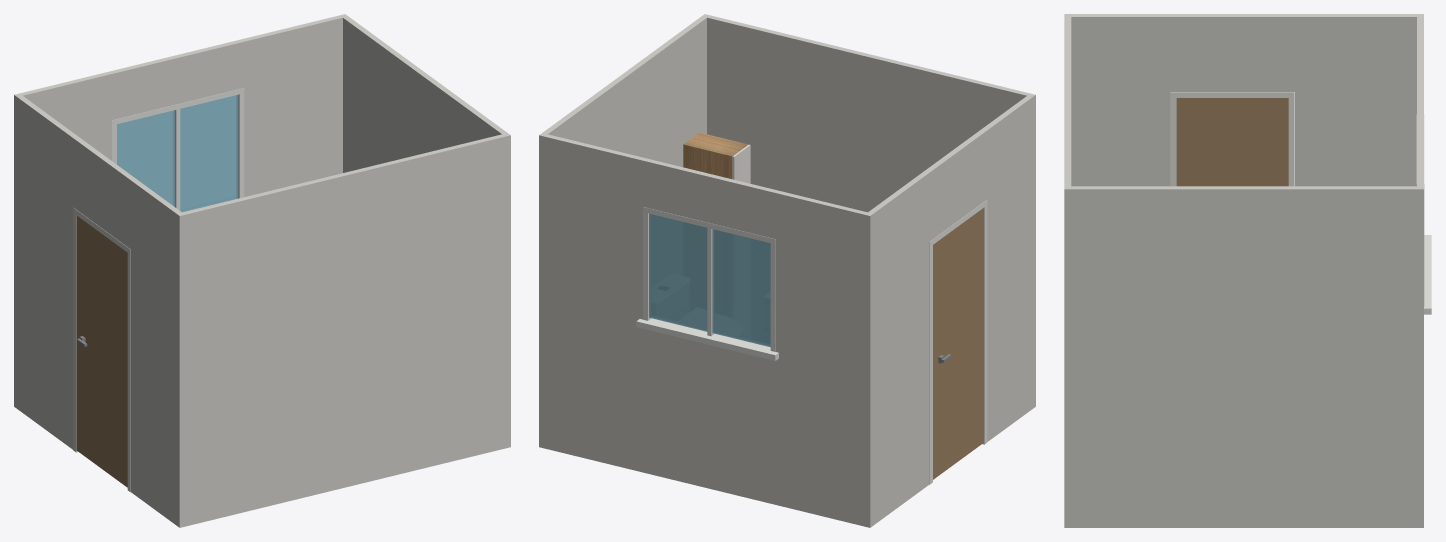
File: scenesmith.glb
3 renders of one model, left to right at view 1: azimuth 30°, elevation 25°; view 2: azimuth 150°, elevation 25°; view 3: azimuth 270°, elevation 25°, orthographic. The views are drawn at different scales.
Visible parts, largest first — view 1: scene_066_bathroom_south_wall, scene_066_bathroom_west_wall, scene_066_bathroom_north_wall, scene_066_bathroom_east_wall, scene_066_bathroom_west_wall Door 0 | wood leaf, scene_066_bathroom_north_wall Window 0 | glazing, scene_066_bathroom_north_wall Window 0 | jamb, scene_066_bathroom_west_wall Door 0 | jamb; view 2: scene_066_bathroom_north_wall, scene_066_bathroom_west_wall, scene_066_bathroom_south_wall, scene_066_bathroom_east_wall, scene_066_bathroom_north_wall Window 0 | glazing, scene_066_bathroom_west_wall Door 0 | wood leaf, scene_066_bathroom_north_wall Window 0 | jamb, scene_066_bathroom_west_wall Door 0 | jamb, P_6567ec5e91fe14f4.001, P_10b816f60418c2ff.001; view 3: scene_066_bathroom_east_wall, scene_066_bathroom_west_wall, scene_066_bathroom_west_wall Door 0 | wood leaf, scene_066_bathroom_south_wall, scene_066_bathroom_west_wall Door 0 | jamb, scene_066_bathroom_north_wall, scene_066_bathroom_north_wall Window 0 | jamb.
Part boxes in pixels (x1,y1,x2,y2): scene_066_bathroom_south_wall: (177, 134, 510, 527); scene_066_bathroom_west_wall: (14, 95, 185, 527); scene_066_bathroom_north_wall: (14, 14, 347, 196); scene_066_bathroom_east_wall: (343, 16, 510, 255); scene_066_bathroom_west_wall Door 0 | wood leaf: (76, 216, 127, 487); scene_066_bathroom_north_wall Window 0 | glazing: (117, 95, 238, 212); scene_066_bathroom_north_wall Window 0 | jamb: (112, 88, 244, 210); scene_066_bathroom_west_wall Door 0 | jamb: (73, 207, 130, 492); scene_066_bathroom_north_wall: (539, 133, 872, 527); scene_066_bathroom_west_wall: (868, 95, 1035, 527); scene_066_bathroom_south_wall: (703, 14, 1035, 212); scene_066_bathroom_east_wall: (542, 14, 709, 167); scene_066_bathroom_north_wall Window 0 | glazing: (649, 213, 770, 347); scene_066_bathroom_west_wall Door 0 | wood leaf: (933, 208, 983, 479); scene_066_bathroom_north_wall Window 0 | jamb: (636, 207, 778, 360); scene_066_bathroom_west_wall Door 0 | jamb: (929, 200, 987, 484); P_6567ec5e91fe14f4.001: (683, 132, 748, 178); P_10b816f60418c2ff.001: (732, 144, 750, 183); scene_066_bathroom_east_wall: (1064, 186, 1423, 527); scene_066_bathroom_west_wall: (1071, 14, 1416, 186); scene_066_bathroom_west_wall Door 0 | wood leaf: (1176, 98, 1288, 186); scene_066_bathroom_south_wall: (1064, 14, 1071, 527); scene_066_bathroom_west_wall Door 0 | jamb: (1170, 92, 1294, 186); scene_066_bathroom_north_wall: (1417, 14, 1423, 363); scene_066_bathroom_north_wall Window 0 | jamb: (1416, 114, 1431, 314).
Bounding box in the file's own units: 3.05 × 2.71 × 2.65.
Materials: 14 (7 with a texture image).
